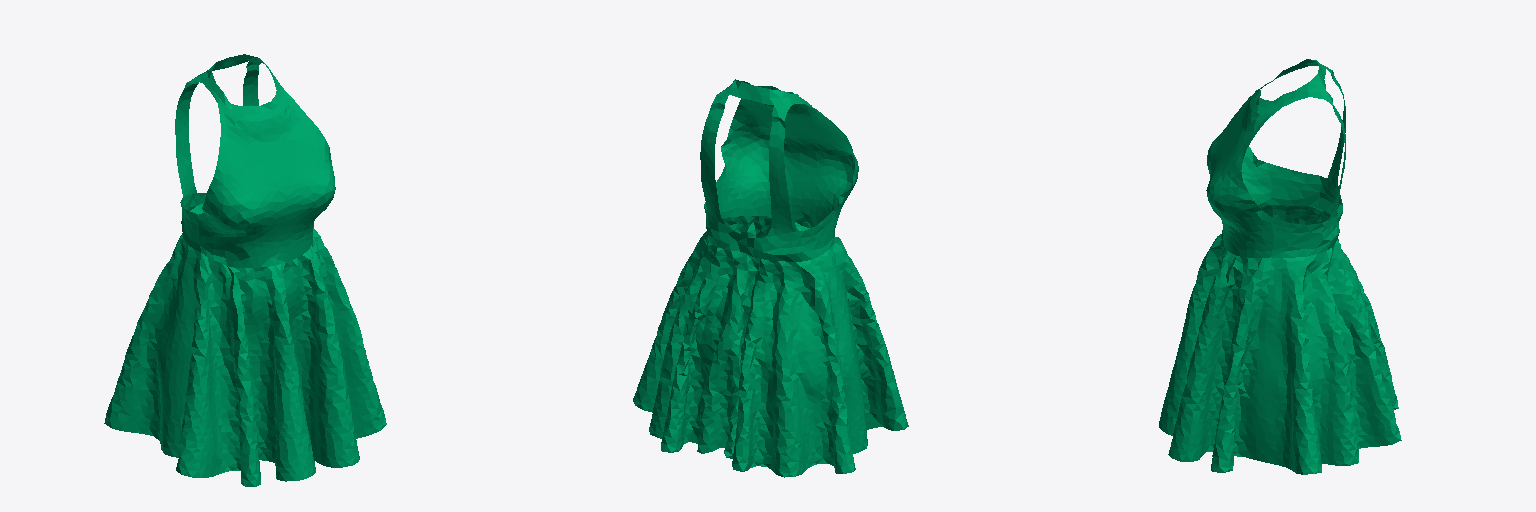
3 views of the same model, side by side, from view 1: azimuth 30°, elevation 25°; view 2: azimuth 150°, elevation 25°; view 3: azimuth 270°, elevation 25° (orthographic).
Visible parts, largest first — view 1: medium_makehuman_green_noinside1:polySurface2 medium_makehuman_g; view 2: medium_makehuman_green_noinside1:polySurface2 medium_makehuman_g; view 3: medium_makehuman_green_noinside1:polySurface2 medium_makehuman_g.
Part boxes in pixels (left/top/right/bottom): medium_makehuman_green_noinside1:polySurface2 medium_makehuman_g: left=104, top=54, right=386, bottom=486; medium_makehuman_green_noinside1:polySurface2 medium_makehuman_g: left=633, top=79, right=908, bottom=477; medium_makehuman_green_noinside1:polySurface2 medium_makehuman_g: left=1159, top=59, right=1401, bottom=474.
Size of the model in its own units: 5.37 by 8.06 by 4.77.
Materials: 7 (1 with a texture image).